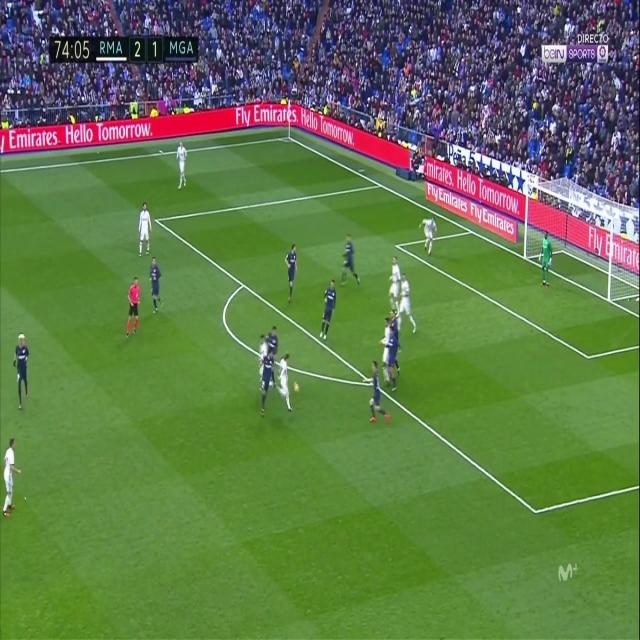Ball: (291, 379, 301, 398)
Goalkeeper: (537, 230, 553, 288)
Player: (362, 358, 392, 425), (1, 436, 23, 522), (398, 269, 420, 338), (338, 232, 362, 292), (13, 332, 30, 411), (318, 279, 338, 342), (282, 241, 301, 304), (258, 348, 275, 417), (146, 252, 164, 317), (274, 350, 292, 414), (418, 213, 440, 260), (137, 200, 153, 261), (379, 318, 392, 389), (388, 254, 402, 319), (386, 328, 400, 390), (176, 139, 189, 191), (257, 330, 267, 377), (268, 323, 281, 352)
Referee: (125, 274, 142, 341)
